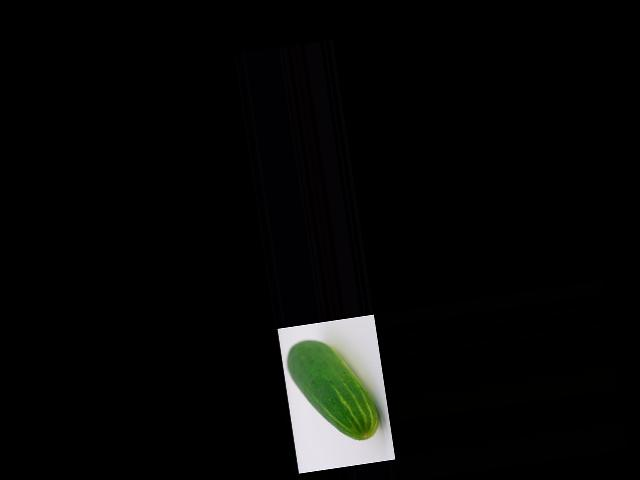cucumber: (284, 331, 381, 449)
